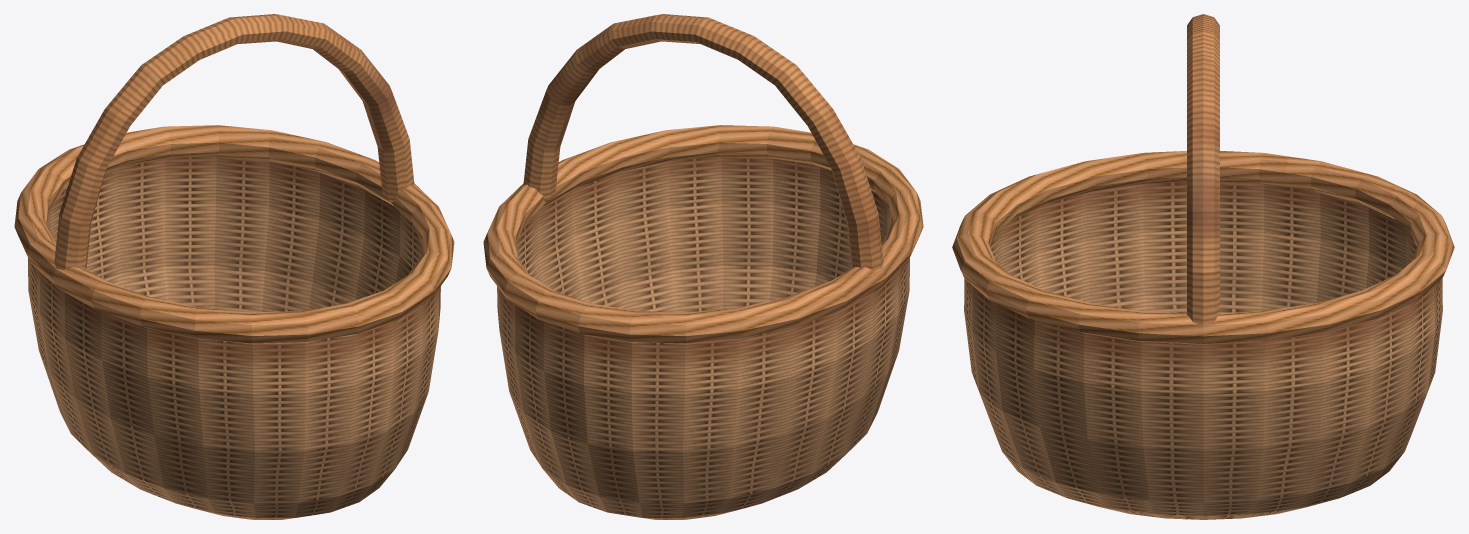
File: JDSOLOVGSVDTRSSN202EHSH2V.fbx
The picture shows the model from 3 angles, left to right: view 1: azimuth 30°, elevation 25°; view 2: azimuth 150°, elevation 25°; view 3: azimuth 270°, elevation 25°; orthographic projection.
Parts seen in each view (by area): view 1: Object_shopping-basket-texture.jpg; view 2: Object_shopping-basket-texture.jpg; view 3: Object_shopping-basket-texture.jpg.
Boxes of the visible parts, x1,y1,x2,y2 form: Object_shopping-basket-texture.jpg: (14,14,454,519); Object_shopping-basket-texture.jpg: (483,14,923,519); Object_shopping-basket-texture.jpg: (952,14,1454,519).
Bounding box in the file's own units: 2.05 × 2.5 × 2.45.
1 material, 1 textured.
